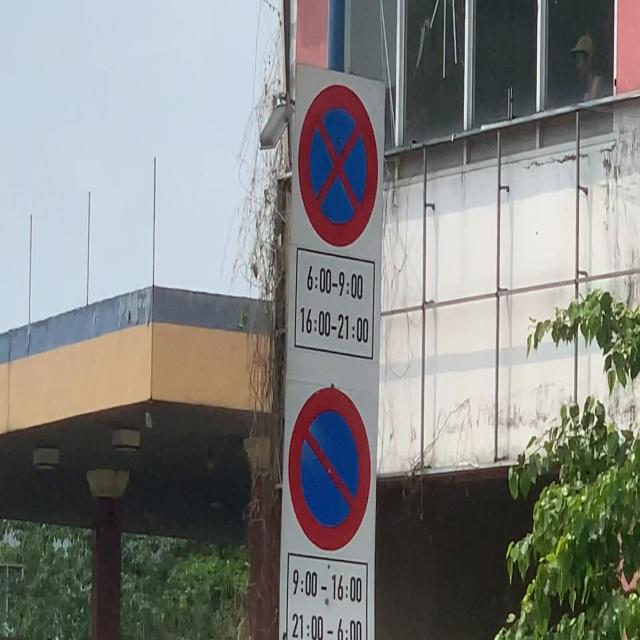Cam do: (289, 376, 367, 551)
Cam dung va do: (295, 78, 383, 256)
